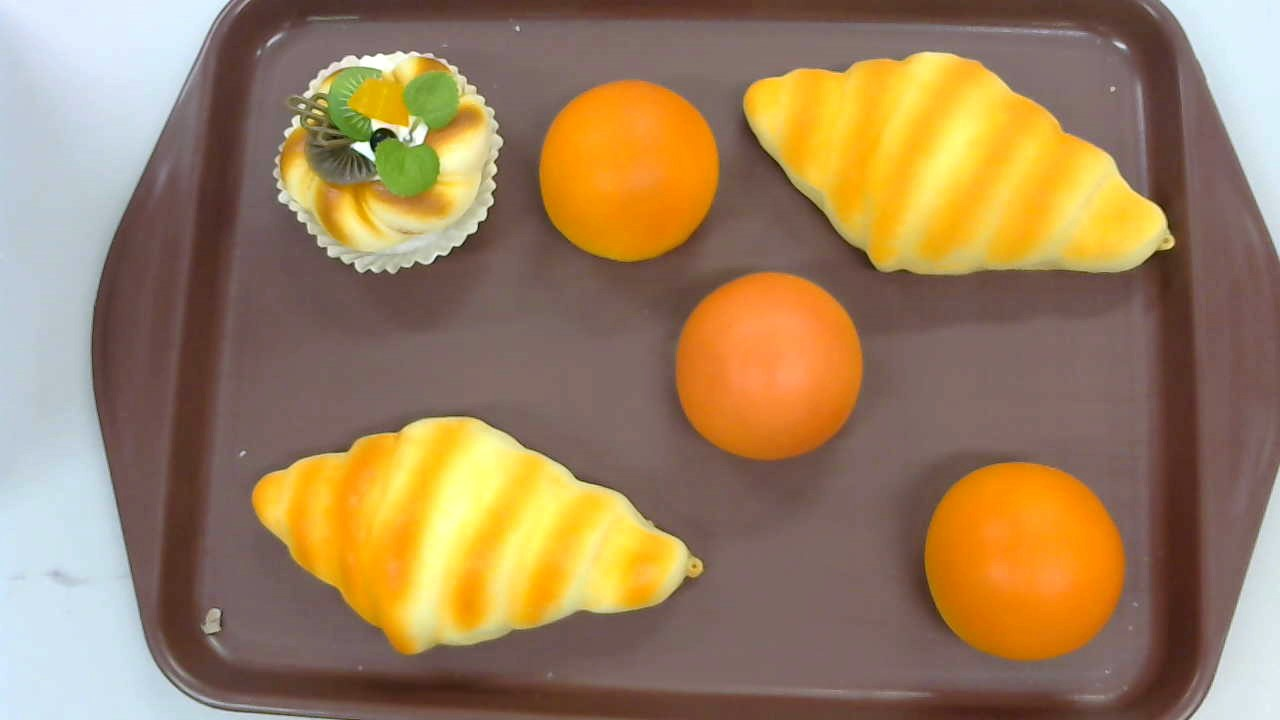bun: (923, 460, 1123, 662), (676, 272, 863, 459), (539, 78, 718, 263)
croissant: (252, 414, 705, 655), (741, 49, 1177, 277)
fruit tart: (271, 50, 503, 277)
